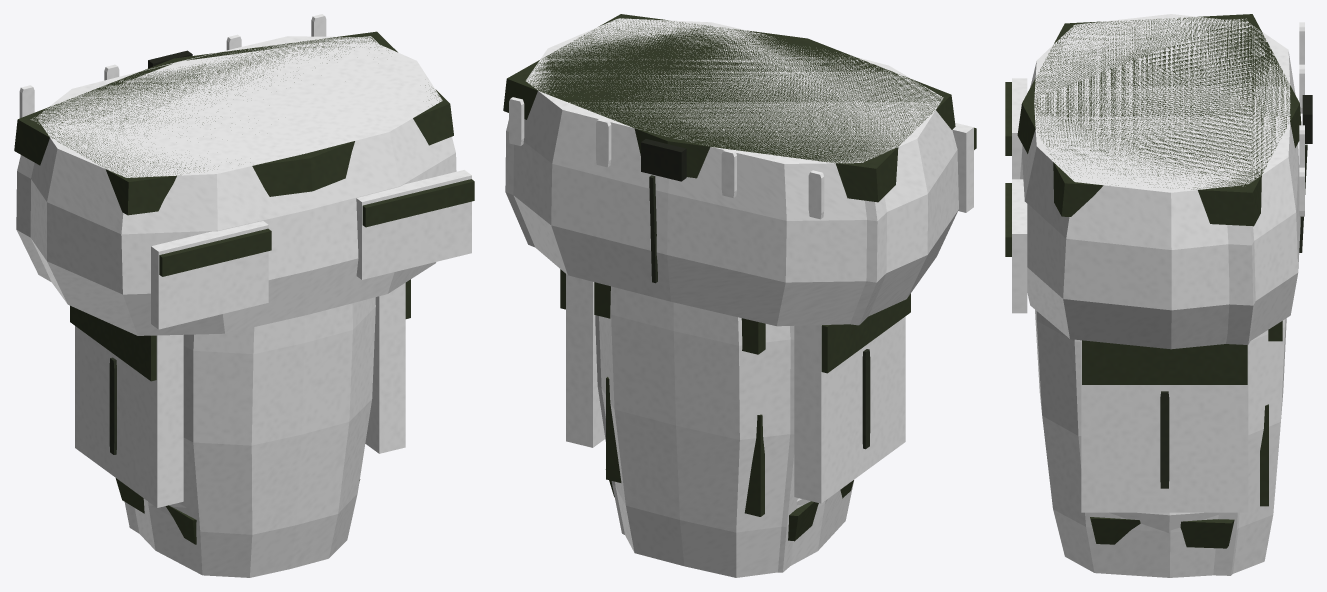
The model's file is trousers_gorka.glb.
3 renders of one model, left to right at view 1: azimuth 30°, elevation 25°; view 2: azimuth 150°, elevation 25°; view 3: azimuth 270°, elevation 25°, orthographic. The views are drawn at different scales.
Parts seen in each view (by area): view 1: trousers_gorka_pelvis_LOD0_RAID_cloth.001, trousers_gorka_thighL_LOD0_RAID_cloth.001, trousers_gorka_pelvis_LOD1_RAID_cloth.001, trousers_gorka_pelvis_LOD0_RAID_reinforce.001, trousers_gorka_thighL_LOD1_RAID_cloth.001, trousers_gorka_thighR_LOD0_RAID_cloth.001, trousers_gorka_thighR_LOD1_RAID_cloth.001, trousers_gorka_pelvis_LOD1_RAID_reinforce.001, trousers_gorka_thighL_LOD0_RAID_reinforce.001, trousers_gorka_thighL_LOD1_RAID_reinforce.001, trousers_gorka_shinL_LOD0_RAID_reinforce.001, trousers_gorka_thighL_LOD0_RAID_seam.001; view 2: trousers_gorka_pelvis_LOD0_RAID_cloth.001, trousers_gorka_thighL_LOD0_RAID_cloth.001, trousers_gorka_pelvis_LOD0_RAID_reinforce.001, trousers_gorka_thighL_LOD1_RAID_cloth.001, trousers_gorka_thighR_LOD1_RAID_cloth.001, trousers_gorka_pelvis_LOD1_RAID_cloth.001, trousers_gorka_shinL_LOD0_RAID_reinforce.001, trousers_gorka_thighL_LOD0_RAID_reinforce.001, trousers_gorka_shinL_LOD1_RAID_reinforce.001, trousers_gorka_pelvis_LOD0_RAID_zip.001, trousers_gorka_pelvis_LOD1_RAID_zip.001, trousers_gorka_thighR_LOD0_RAID_cloth.001 (+3 smaller); view 3: trousers_gorka_pelvis_LOD0_RAID_cloth.001, trousers_gorka_pelvis_LOD0_RAID_reinforce.001, trousers_gorka_thighL_LOD0_RAID_cloth.001, trousers_gorka_thighR_LOD0_RAID_cloth.001, trousers_gorka_thighR_LOD1_RAID_cloth.001, trousers_gorka_pelvis_LOD1_RAID_cloth.001, trousers_gorka_thighR_LOD0_RAID_reinforce.001, trousers_gorka_shinL_LOD0_RAID_reinforce.001, trousers_gorka_thighR_LOD1_RAID_reinforce.001, trousers_gorka_shinL_LOD0_RAID_cloth.001, trousers_gorka_thighR_LOD0_RAID_seam.001, trousers_gorka_thighL_LOD1_RAID_cloth.001 (+2 smaller).
Boxes of the visible parts, x1,y1,x2,y2 form: trousers_gorka_pelvis_LOD0_RAID_cloth.001: [19, 14, 471, 335]; trousers_gorka_thighL_LOD0_RAID_cloth.001: [80, 297, 375, 577]; trousers_gorka_pelvis_LOD1_RAID_cloth.001: [16, 36, 471, 329]; trousers_gorka_pelvis_LOD0_RAID_reinforce.001: [14, 31, 474, 275]; trousers_gorka_thighL_LOD1_RAID_cloth.001: [75, 326, 183, 533]; trousers_gorka_thighR_LOD0_RAID_cloth.001: [366, 283, 405, 443]; trousers_gorka_thighR_LOD1_RAID_cloth.001: [365, 329, 405, 453]; trousers_gorka_pelvis_LOD1_RAID_reinforce.001: [159, 179, 474, 276]; trousers_gorka_thighL_LOD0_RAID_reinforce.001: [85, 313, 156, 377]; trousers_gorka_thighL_LOD1_RAID_reinforce.001: [70, 305, 156, 381]; trousers_gorka_shinL_LOD0_RAID_reinforce.001: [115, 478, 360, 544]; trousers_gorka_thighL_LOD0_RAID_seam.001: [109, 357, 116, 454]; trousers_gorka_pelvis_LOD0_RAID_cloth.001: [509, 18, 973, 326]; trousers_gorka_thighL_LOD0_RAID_cloth.001: [599, 286, 904, 577]; trousers_gorka_pelvis_LOD0_RAID_reinforce.001: [503, 14, 976, 202]; trousers_gorka_thighL_LOD1_RAID_cloth.001: [595, 315, 905, 572]; trousers_gorka_thighR_LOD1_RAID_cloth.001: [566, 274, 605, 447]; trousers_gorka_pelvis_LOD1_RAID_cloth.001: [505, 54, 973, 325]; trousers_gorka_shinL_LOD0_RAID_reinforce.001: [594, 282, 853, 541]; trousers_gorka_thighL_LOD0_RAID_reinforce.001: [821, 301, 907, 369]; trousers_gorka_shinL_LOD1_RAID_reinforce.001: [594, 294, 765, 516]; trousers_gorka_pelvis_LOD0_RAID_zip.001: [641, 140, 686, 180]; trousers_gorka_pelvis_LOD1_RAID_zip.001: [641, 139, 686, 181]; trousers_gorka_thighR_LOD0_RAID_cloth.001: [567, 310, 596, 434]; trousers_gorka_pelvis_LOD0_RAID_cloth.001: [1012, 14, 1304, 349]; trousers_gorka_pelvis_LOD0_RAID_reinforce.001: [1005, 14, 1301, 253]; trousers_gorka_thighL_LOD0_RAID_cloth.001: [1035, 310, 1286, 577]; trousers_gorka_thighR_LOD0_RAID_cloth.001: [1081, 342, 1248, 512]; trousers_gorka_thighR_LOD1_RAID_cloth.001: [1081, 340, 1248, 512]; trousers_gorka_pelvis_LOD1_RAID_cloth.001: [1012, 18, 1289, 344]; trousers_gorka_thighR_LOD0_RAID_reinforce.001: [1082, 341, 1247, 384]; trousers_gorka_shinL_LOD0_RAID_reinforce.001: [1090, 414, 1268, 548]; trousers_gorka_thighR_LOD1_RAID_reinforce.001: [1082, 340, 1247, 384]; trousers_gorka_shinL_LOD0_RAID_cloth.001: [1109, 512, 1219, 532]; trousers_gorka_thighR_LOD0_RAID_seam.001: [1160, 391, 1169, 488]; trousers_gorka_thighL_LOD1_RAID_cloth.001: [1213, 512, 1239, 575].
Size of the model in its own units: 0.404 by 0.438 by 0.2775.
Materials: 4 (4 with a texture image).
